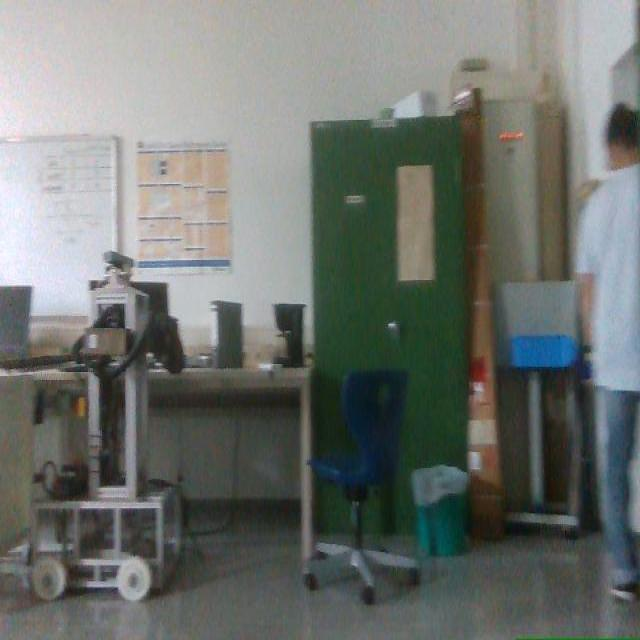humans: (575, 103, 639, 600)
objects: (303, 369, 419, 604), (0, 286, 31, 358)
